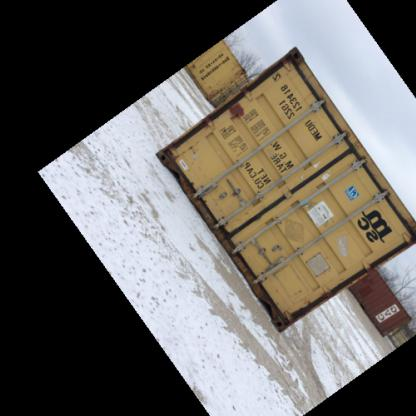Damage: (234, 252, 292, 330), (192, 194, 233, 256), (152, 144, 194, 196), (276, 47, 306, 84), (216, 100, 248, 122)
